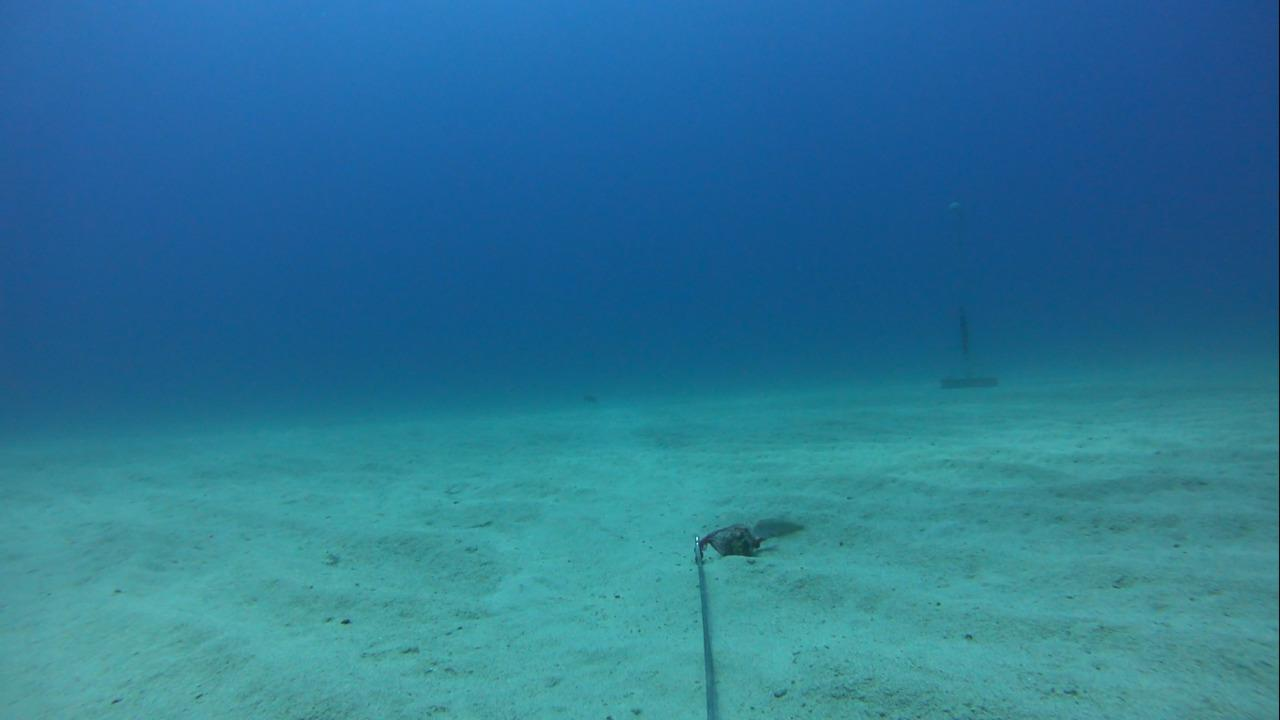raor: (749, 510, 815, 542)
